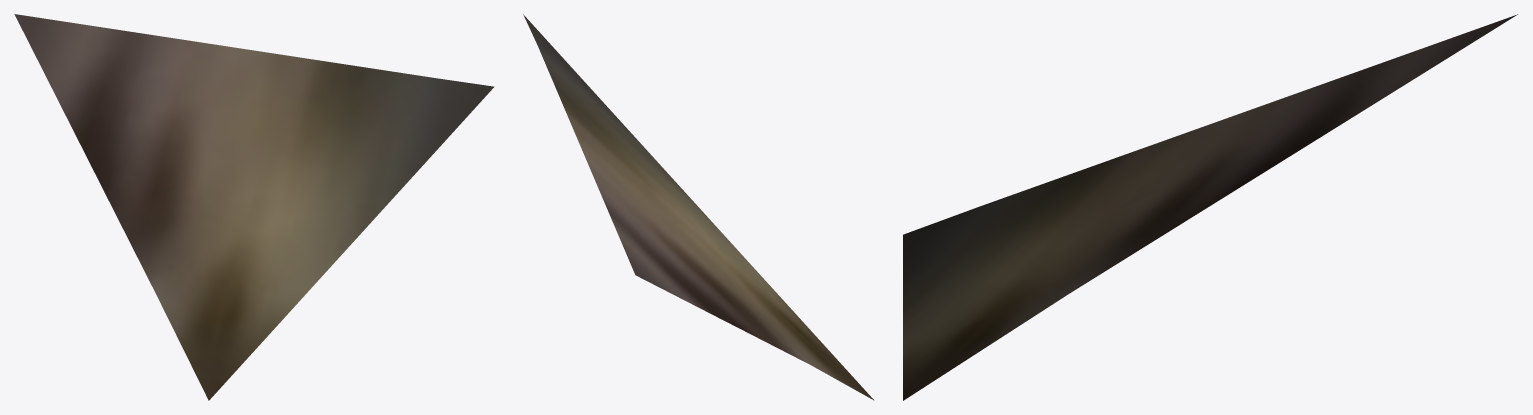
The picture shows the model from 3 angles, left to right: view 1: azimuth 30°, elevation 25°; view 2: azimuth 150°, elevation 25°; view 3: azimuth 270°, elevation 25°; orthographic projection. The views are drawn at different scales.
Size of the model in its own units: 0.1711 by 0.14 by 0.2018.
1 material, 1 textured.
